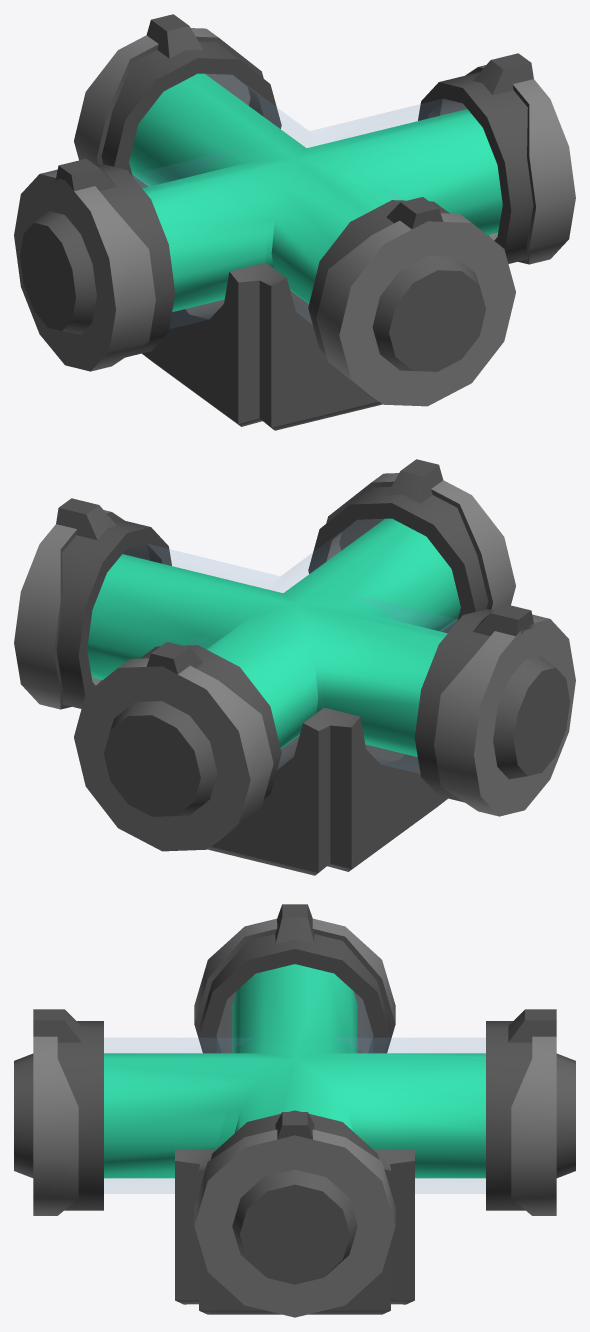
The model's file is Liquid_Blue_Pipe_04_Way.fbx.
3 views of the same model, one above another, from view 1: azimuth 30°, elevation 25°; view 2: azimuth 150°, elevation 25°; view 3: azimuth 270°, elevation 25° (orthographic).
Visible parts, largest first — view 1: Liquid_Blue_Pipe_04_Way; view 2: Liquid_Blue_Pipe_04_Way; view 3: Liquid_Blue_Pipe_04_Way.
Boxes of the visible parts, <box> form: Liquid_Blue_Pipe_04_Way: <box>14,14,575,430</box>; Liquid_Blue_Pipe_04_Way: <box>14,459,575,875</box>; Liquid_Blue_Pipe_04_Way: <box>14,904,575,1317</box>.
Size of the model in its own units: 215 by 107 by 215.
